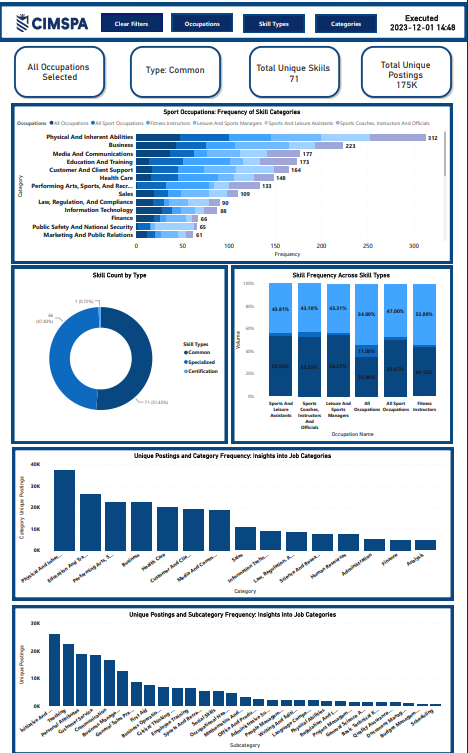

The page's visual inventory and layout, read from the dashboard file:
{"tool":"powerbi","page":{"name":"S&PA Skills","canvas":[1248,2000],"ordinal":8},"visuals":[{"type":"shape","box":[0,0,1248.3,103.3],"z":0},{"type":"image","box":[23.4,23.4,238.5,58.5],"z":1000},{"type":"actionButton","box":[461.5,30.7,161.7,48.3],"z":2000},{"type":"actionButton","box":[274.9,30.7,161.7,48.3],"z":3000},{"type":"shape","box":[661.2,109.4,250,145.7],"z":4000},{"type":"shape","box":[346.9,109.4,250,145.7],"z":5000},{"type":"shape","box":[38.3,109.4,250,145.7],"z":6000},{"type":"shape","box":[959.8,109.4,250,145.7],"z":7000},{"type":"card","fields":{"Values":["# Measures.Executed"]},"box":[1018.6,11.4,220,81.4],"z":8000},{"type":"card","fields":{"Values":["# Measures.OccupationsSelected"]},"box":[50,118.3,228.3,130],"z":9000},{"type":"shape","box":[36.7,267.8,1171.7,426.7],"z":10000},{"type":"barChart","title":"Sport Occupations: Frequency of Skill Categories","fields":{"Category":["SportCategories.Category"],"Y":["Sum(Sk_cat.Value)"],"Series":["Occupations.Name"]},"box":[46.4,279.6,1150,402.9],"z":11000},{"type":"card","fields":{"Values":["# Measures.SportSillTypeSelected"]},"box":[358.8,109.8,226.2,137.5],"z":12000},{"type":"card","fields":{"Values":["# Measures.SportTotalUniqeSkills"]},"box":[673.3,142.3,226.7,115],"z":13000},{"type":"card","fields":{"Values":["# Measures.SportTotalUniquePostings"]},"box":[971.3,131,227.5,116.2],"z":14000},{"type":"shape","box":[35.9,699.4,573.3,473.3],"z":18000},{"type":"shape","box":[620.9,699.4,588.3,473.3],"z":19000},{"type":"hundredPercentStackedColumnChart","title":"Skill Frequency Across Skill Types","fields":{"Category":["Occupations.Name"],"Y":["Sum(Skill_type_dist.Volume)"],"Series":["Skill_type_dist.SkillsType"]},"box":[624.3,714.4,575,445],"z":20000},{"type":"actionButton","box":[651.5,32.3,161.7,48.3],"z":21000},{"type":"actionButton","box":[844.9,32.3,161.7,48.3],"z":25000},{"type":"shape","box":[38.3,1181.7,1171.7,406.7],"z":29000},{"type":"columnChart","title":"Unique Postings and Category Frequency: Insights into Job Categories","fields":{"Category":["SportCategories.Category"],"Y":["Avg(S&PA_Interactive_Top_Skills.Skill catgory unique postings )"]},"box":[50,1193.3,1146.7,383.3],"z":30000},{"type":"donutChart","title":"Skill Count by Type","fields":{"Category":["Sport_Interactive_Top_Skills.Type"],"Y":["CountNonNull(Sport_Interactive_Top_Skills.SkillNameID)"]},"box":[47.6,714.4,550,445],"z":31000},{"type":"shape","box":[38.3,1601.7,1171.7,398.3],"z":32000},{"type":"columnChart","title":"Unique Postings and Subcategory Frequency: Insights into Job Categories","fields":{"Y":["Avg(Sport_Interactive_Top_Skills.Skill subcatgory unique postings )"],"Category":["Sport_Interactive_Top_Skills.Subcategory"]},"box":[50,1616.7,1146.7,371.7],"z":33000}]}

Visuals, with their boxes in screenshot pixels (x1, y1, x2, y2), scaled from the page's 1248x2000 canvas onto the 468x753 screenshot:
shape: pyautogui.locateOnScreen(0, 0, 467, 39)
image: pyautogui.locateOnScreen(9, 9, 98, 31)
actionButton: pyautogui.locateOnScreen(173, 12, 234, 30)
actionButton: pyautogui.locateOnScreen(103, 12, 164, 30)
shape: pyautogui.locateOnScreen(248, 41, 342, 96)
shape: pyautogui.locateOnScreen(130, 41, 224, 96)
shape: pyautogui.locateOnScreen(14, 41, 108, 96)
shape: pyautogui.locateOnScreen(360, 41, 454, 96)
card - # Measures.Executed: pyautogui.locateOnScreen(382, 4, 464, 35)
card - # Measures.OccupationsSelected: pyautogui.locateOnScreen(19, 45, 104, 93)
shape: pyautogui.locateOnScreen(14, 101, 453, 261)
"Sport Occupations: Frequency of Skill Categories" barChart: pyautogui.locateOnScreen(17, 105, 449, 257)
card - # Measures.SportSillTypeSelected: pyautogui.locateOnScreen(135, 41, 219, 93)
card - # Measures.SportTotalUniqeSkills: pyautogui.locateOnScreen(252, 54, 338, 97)
card - # Measures.SportTotalUniquePostings: pyautogui.locateOnScreen(364, 49, 450, 93)
shape: pyautogui.locateOnScreen(13, 263, 228, 442)
shape: pyautogui.locateOnScreen(233, 263, 453, 442)
"Skill Frequency Across Skill Types" hundredPercentStackedColumnChart: pyautogui.locateOnScreen(234, 269, 450, 437)
actionButton: pyautogui.locateOnScreen(244, 12, 305, 30)
actionButton: pyautogui.locateOnScreen(317, 12, 377, 30)
shape: pyautogui.locateOnScreen(14, 445, 454, 598)
"Unique Postings and Category Frequency: Insights into Job Categories" columnChart: pyautogui.locateOnScreen(19, 449, 449, 594)
"Skill Count by Type" donutChart: pyautogui.locateOnScreen(18, 269, 224, 437)
shape: pyautogui.locateOnScreen(14, 603, 454, 752)
"Unique Postings and Subcategory Frequency: Insights into Job Categories" columnChart: pyautogui.locateOnScreen(19, 609, 449, 749)
